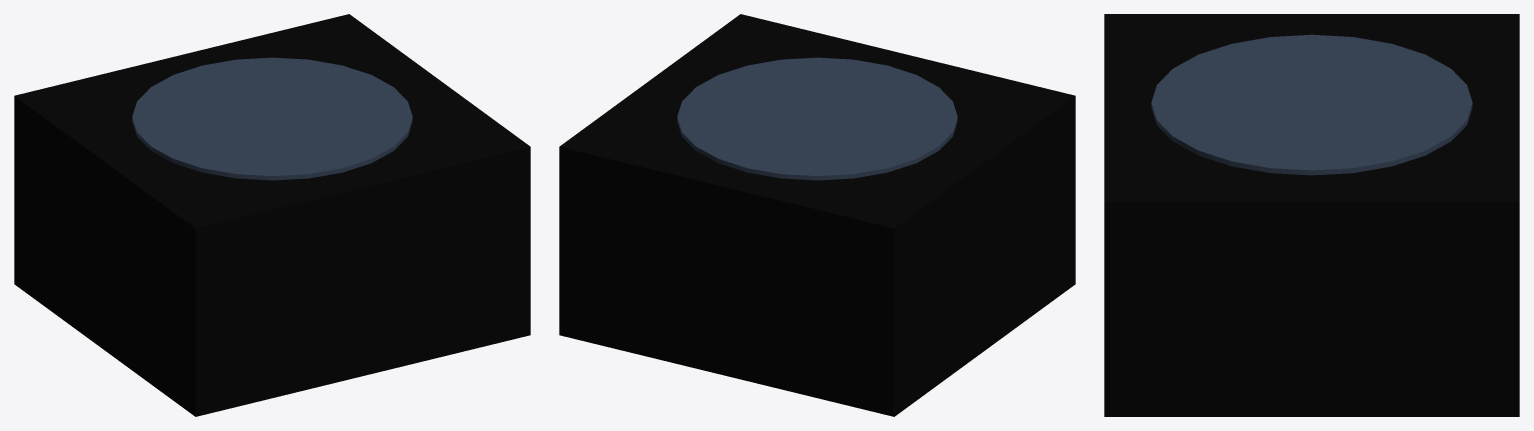
Rendered from corsair-rm1000x.glb.
The picture shows the model from 3 angles, left to right: view 1: azimuth 30°, elevation 25°; view 2: azimuth 150°, elevation 25°; view 3: azimuth 270°, elevation 25°; orthographic projection. The views are drawn at different scales.
Parts seen in each view (by area): view 1: PsuMainBody, PsuFanGrille; view 2: PsuMainBody, PsuFanGrille; view 3: PsuMainBody, PsuFanGrille.
Part boxes in pixels (x1,y1,x2,y2): PsuMainBody: (14, 14, 530, 416); PsuFanGrille: (132, 57, 412, 180); PsuMainBody: (559, 14, 1075, 416); PsuFanGrille: (677, 57, 957, 180); PsuMainBody: (1104, 14, 1519, 416); PsuFanGrille: (1151, 34, 1472, 175).
Size of the model in its own units: 1.6 by 0.88 by 1.5.
Materials: 2 (1 with a texture image).
